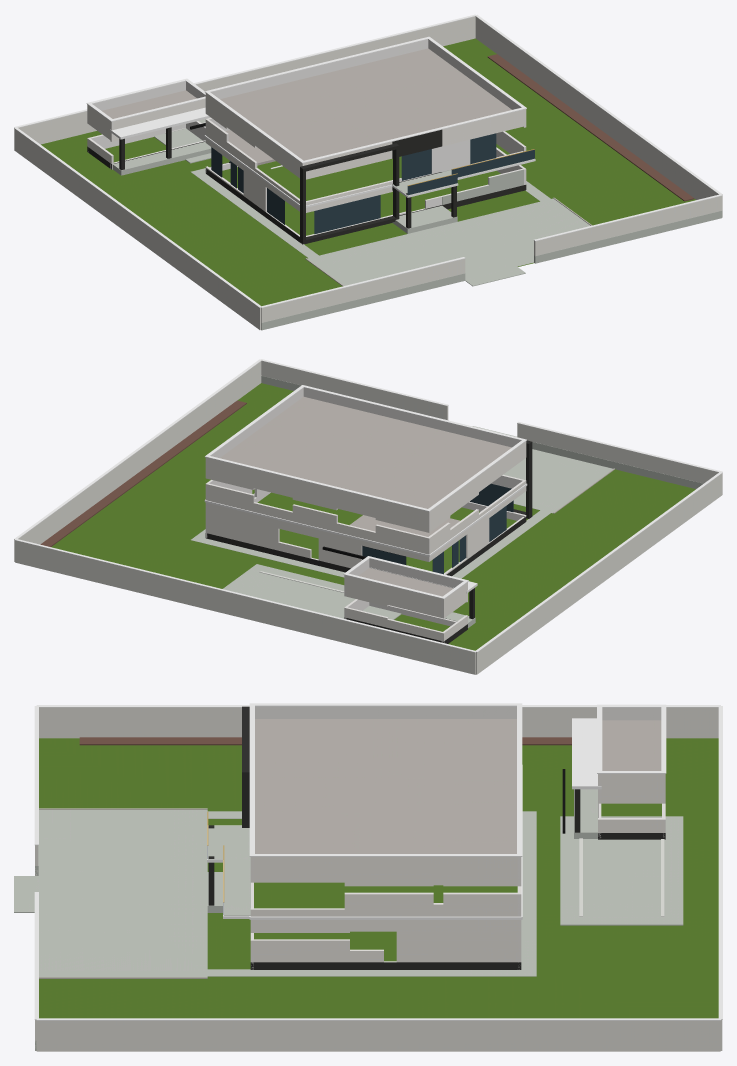
The model's file is est_S4_lod1.glb.
The picture shows the model from 3 angles, top to bottom: view 1: azimuth 30°, elevation 25°; view 2: azimuth 150°, elevation 25°; view 3: azimuth 270°, elevation 25°; orthographic projection. The views are drawn at different scales.
Parts seen in each view (by area): view 1: GR_est_S4_lod1; view 2: GR_est_S4_lod1; view 3: GR_est_S4_lod1.
Boxes of the visible parts, left/top/right/bottom form: GR_est_S4_lod1: left=14, top=14, right=722, bottom=330; GR_est_S4_lod1: left=14, top=359, right=722, bottom=674; GR_est_S4_lod1: left=14, top=703, right=722, bottom=1051.
Size of the model in its own units: 52.31 by 10.33 by 49.76.
4 materials, 1 textured.
